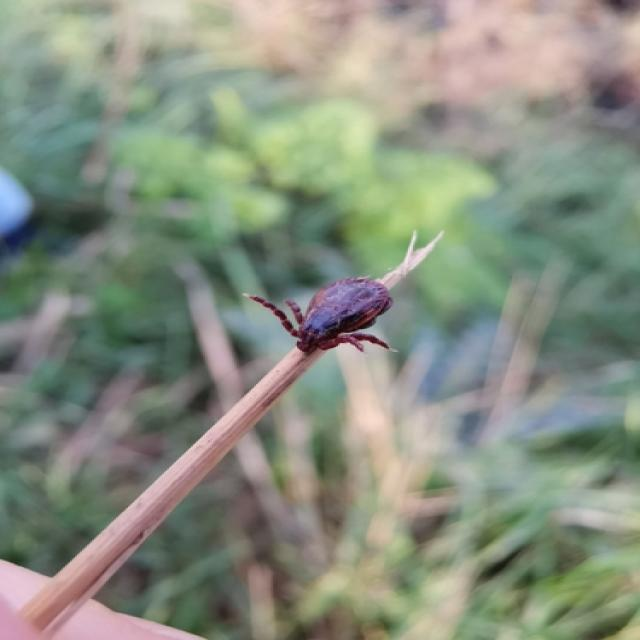Dermacentor Reticulatus-F: (249, 278, 393, 352)
